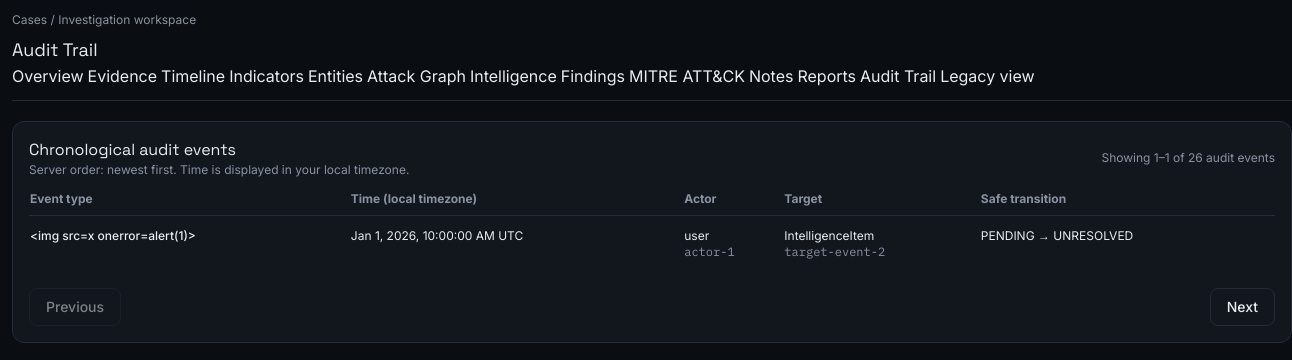
Test case: AuditTrailWorkspace › paginates without sorting or interpreting hostile persisted display text
The width and height of the screenshot is (1292, 360).
Expected: the text "<img src=x onerror=alert(1)>" is shown, [29, 216, 350, 272]
Expected: the text "Showing 1–1 of 26 audit events" is shown, [1102, 150, 1275, 166]
What coordinates should you click on to do the following:
click the button "Next"
I would click on:
 (1242, 307)
Its box is [1210, 288, 1275, 326].
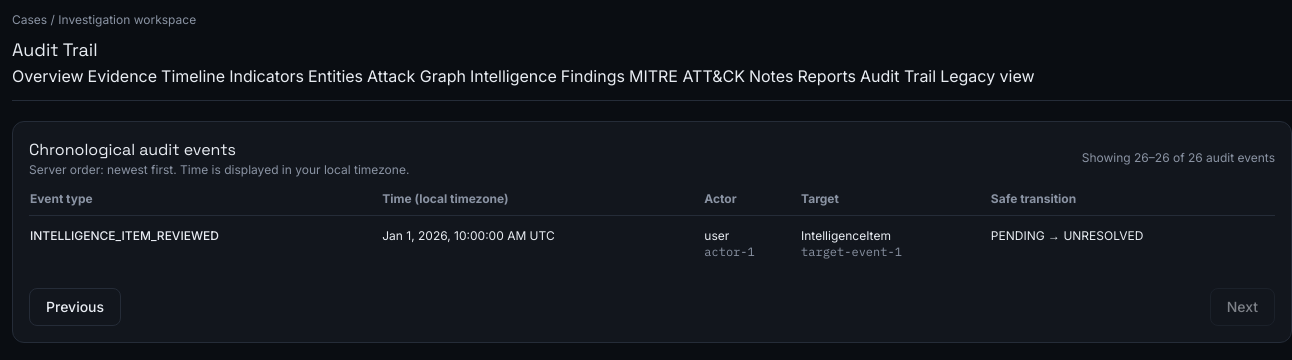
Result: the text "target-event-1" is shown at [801, 244, 902, 259]
